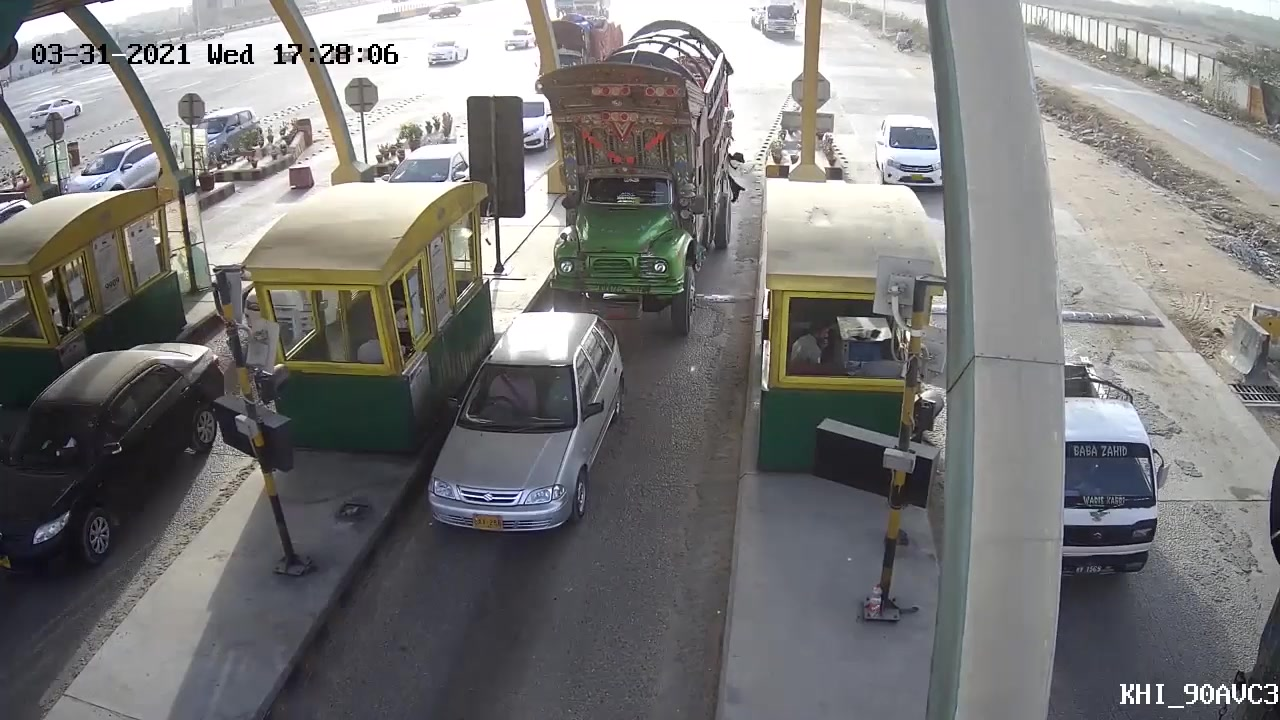F1: (426, 309, 626, 562)
F5: (530, 26, 742, 338)
